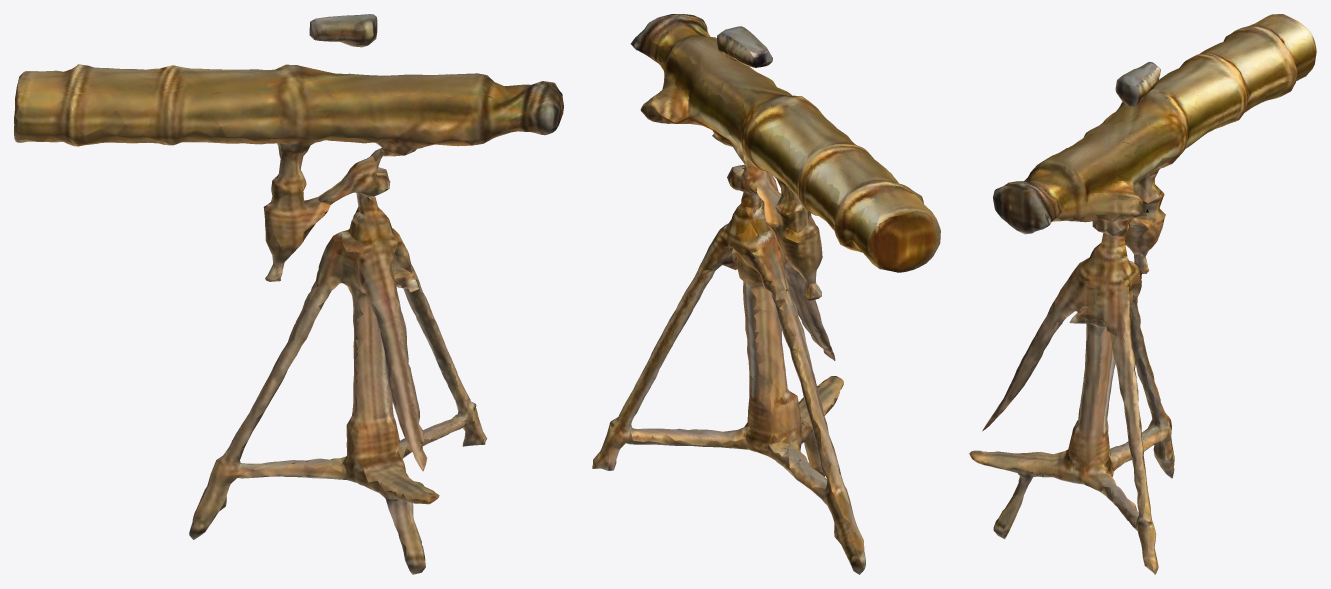
File: 17_34_38_19_brass-telescope.glb
3 renders of one model, left to right at view 1: azimuth 30°, elevation 25°; view 2: azimuth 150°, elevation 25°; view 3: azimuth 270°, elevation 25°, orthographic. The views are drawn at different scales.
Parts seen in each view (by area): view 1: world; view 2: world; view 3: world.
Boxes of the visible parts, box(x1,y1,x2,y2) form: world: box(14, 14, 563, 574); world: box(592, 14, 940, 574); world: box(969, 14, 1316, 574).
Size of the model in its own units: 0.8115 by 0.9064 by 0.6106.
Materials: 1 (1 with a texture image).
